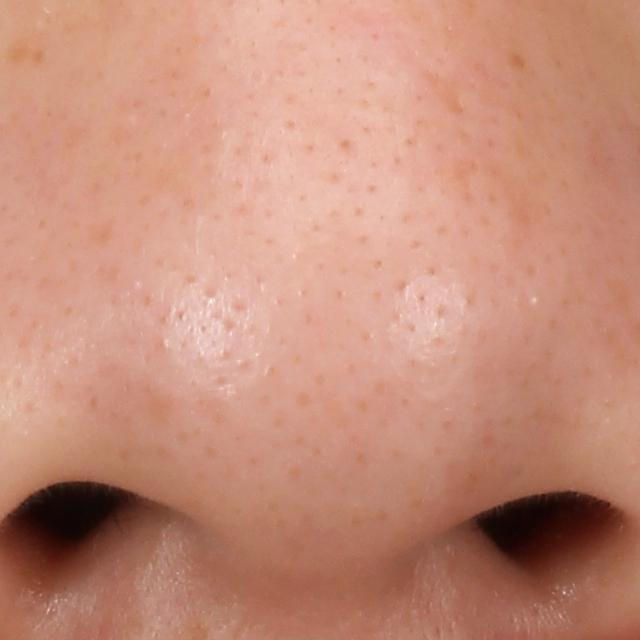melasma: (505, 48, 530, 75)
